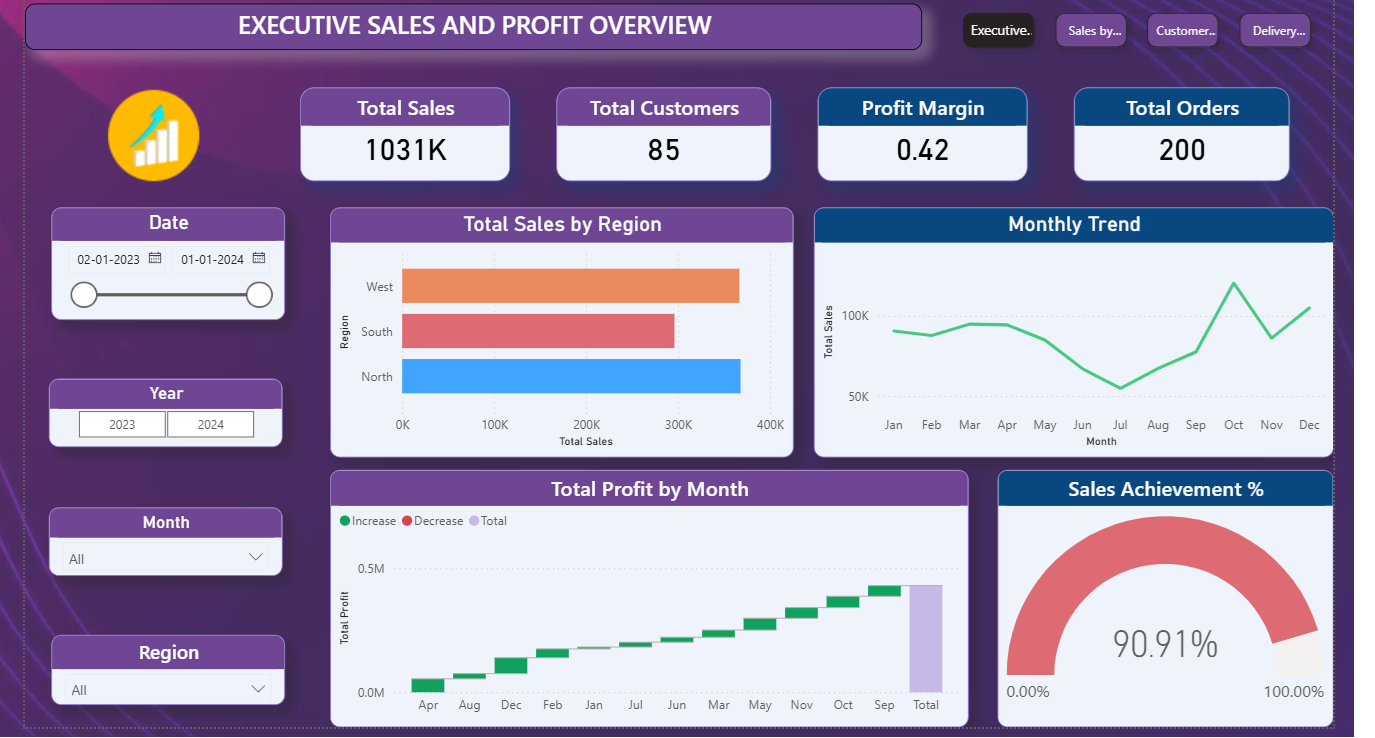

The dashboard page shown, as its layout file describes it:
{"tool":"powerbi","page":{"name":"Executive Overview","canvas":[1280,720],"ordinal":0},"visuals":[{"type":"card","title":"Total Sales","fields":{"Values":["Measures Table.Total Sales"]},"box":[269,94.2,205.4,91.7],"z":0},{"type":"card","title":"Profit Margin","fields":{"Values":["Measures Table.Profit Margin %"]},"box":[775.3,94.2,205.4,91.7],"z":1000},{"type":"card","title":"Total Orders","fields":{"Values":["Measures Table.Total Orders"]},"box":[1026,94.2,211.6,91.7],"z":2000},{"type":"card","title":"Total Customers","fields":{"Values":["Measures Table.Total Customers"]},"box":[519.7,94.2,210.3,91.7],"z":3000},{"type":"lineChart","title":"Monthly Trend","fields":{"Y":["Measures Table.Total Sales"],"Category":["DateTable.Month "]},"box":[771.6,211.6,508.7,244.6],"z":4000},{"type":"slicer","title":"Date","fields":{"Values":["DateTable.Date"]},"box":[25.7,211.6,228.7,110.1],"z":5000},{"type":"clusteredBarChart","fields":{"Category":["Customers.Region"],"Y":["Measures Table.Total Sales"]},"box":[298.4,211.6,453.7,244.6],"z":6000},{"type":"slicer","title":"Year","fields":{"Values":["DateTable.Year"]},"box":[23.2,379.5,228.7,67.3],"z":7000},{"type":"slicer","title":"Region","fields":{"Values":["Customers.Region"]},"box":[25.7,629.8,228.7,68.5],"z":8000},{"type":"gauge","fields":{"Y":["Measures Table.Sales Achievement %"]},"box":[951.4,468.3,328.9,251.9],"z":9000},{"type":"waterfallChart","title":"Total Profit by Month","fields":{"Category":["DateTable.Short Month"],"Y":["Measures Table.Total Profit"]},"box":[298.4,468.3,624.9,251.9],"z":10000},{"type":"textbox","title":" EXECUTIVE SALES AND PROFIT OVERVIEW","box":[0,12.2,878,45.2],"z":11000},{"type":"slicer","title":"Month","fields":{"Values":["DateTable.Month Name"]},"box":[23.2,504.6,228.7,67.3],"z":12000},{"type":"image","box":[36.7,95.4,178.5,91.7],"z":13000},{"type":"pageNavigator","box":[908.6,12.2,359.5,52.6],"z":14000}]}

Visuals, with their boxes on the page's 1280x720 design canvas (x1, y1, x2, y2). These are canvas units, not pixel positions in the 1375x738 screenshot, which may show the page scaled, cropped or inside an application window:
"Total Sales" card: 269,94,474,186
"Profit Margin" card: 775,94,981,186
"Total Orders" card: 1026,94,1238,186
"Total Customers" card: 520,94,730,186
"Monthly Trend" lineChart: 772,212,1280,456
"Date" slicer: 26,212,254,322
clusteredBarChart - Customers.Region x Measures Table.Total Sales: 298,212,752,456
"Year" slicer: 23,380,252,447
"Region" slicer: 26,630,254,698
gauge - Measures Table.Sales Achievement %: 951,468,1280,720
"Total Profit by Month" waterfallChart: 298,468,923,720
" EXECUTIVE SALES AND PROFIT OVERVIEW" textbox: 0,12,878,57
"Month" slicer: 23,505,252,572
image: 37,95,215,187
pageNavigator: 909,12,1268,65
